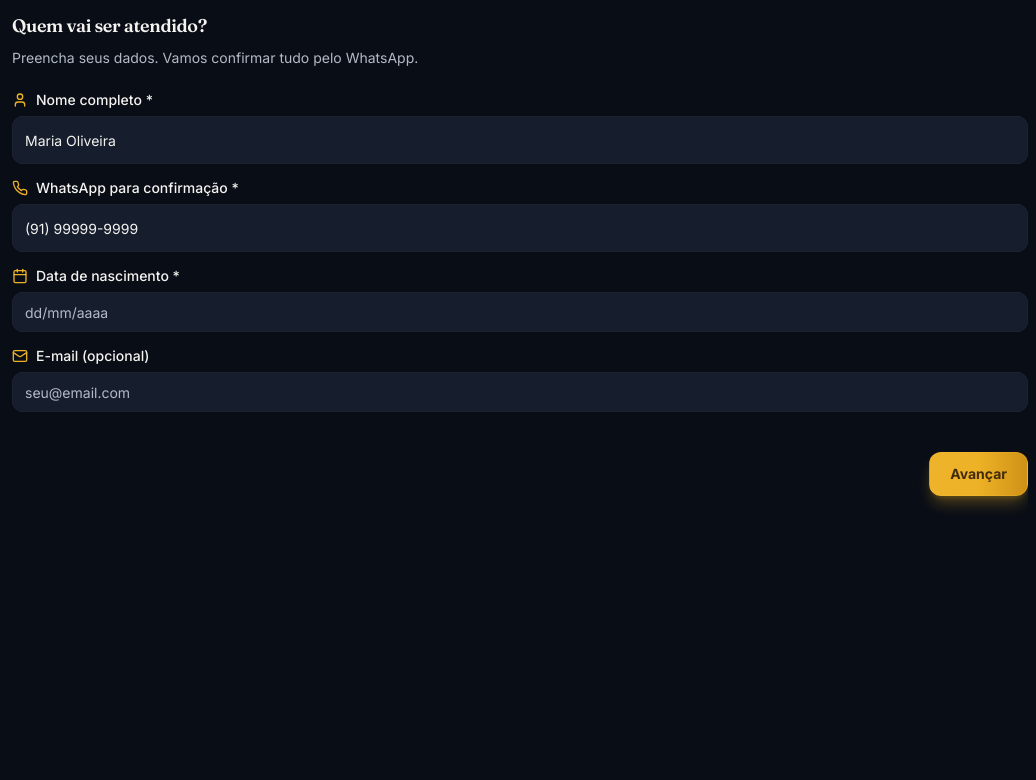
PersonalDataStep — data de nascimento obrigatória › data futura bloqueia com mensagem específica
Type "01/01/2999" into the field labelled "Data de nascimento *". click: (520, 312)
box: [12,292,1028,332]
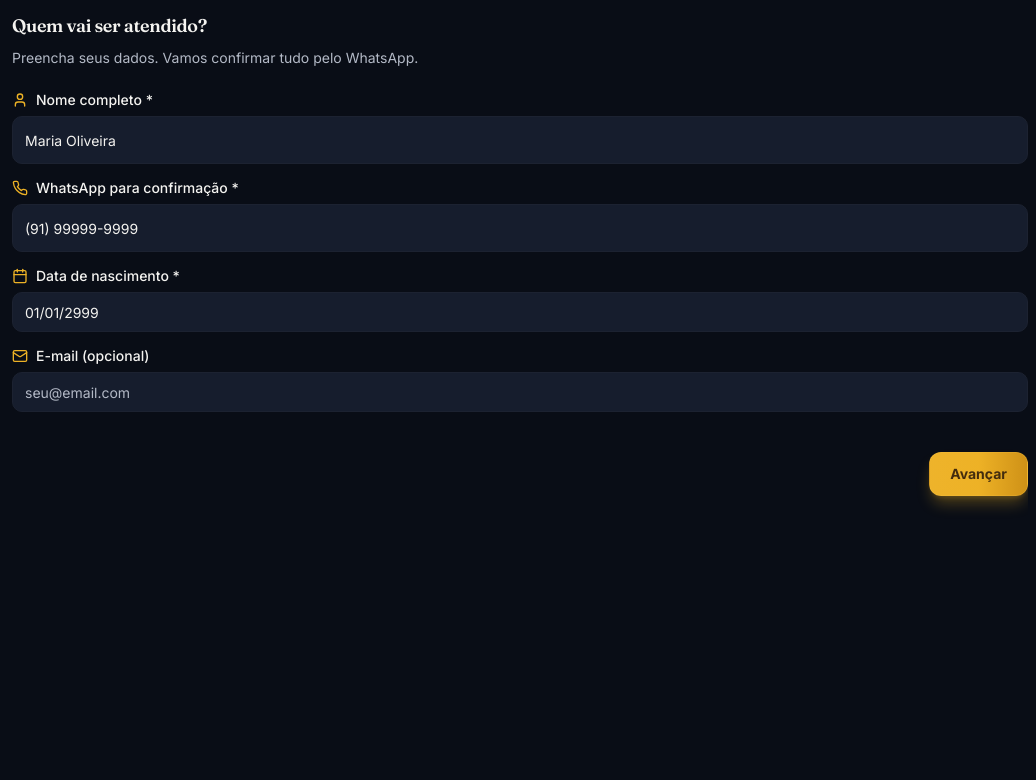
Click the button "Avançar". click: (979, 474)
box: [929,452,1028,496]
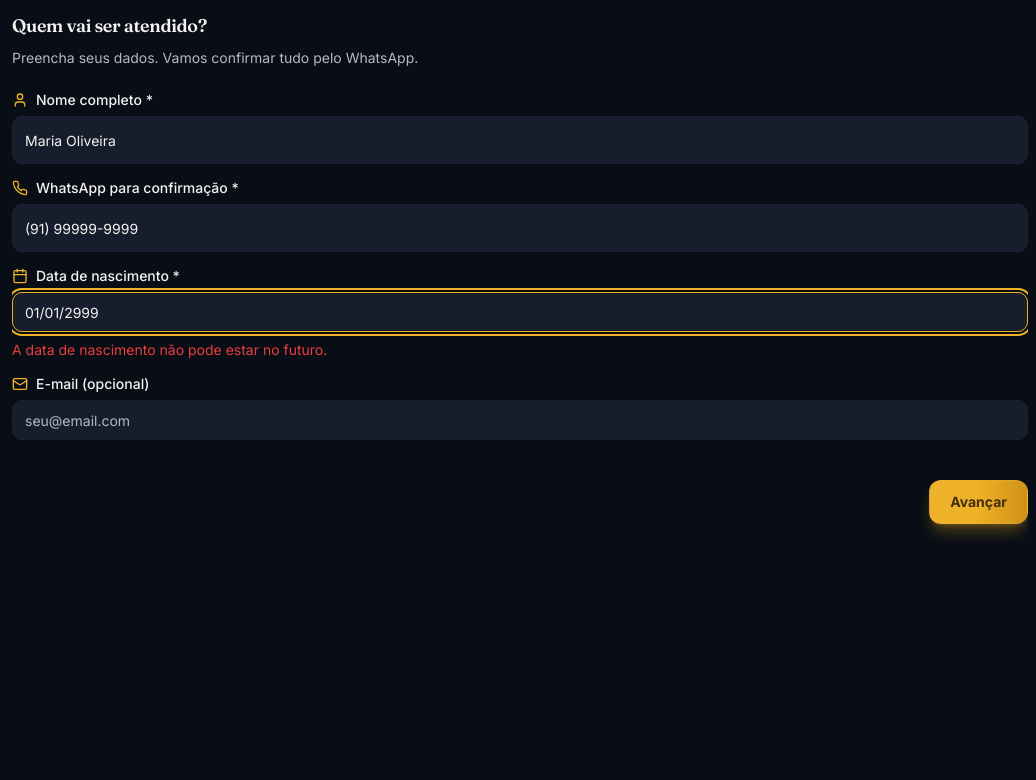
Expected: the text "A data de nascimento não pode estar no futuro." is shown, [12,341,327,358]
